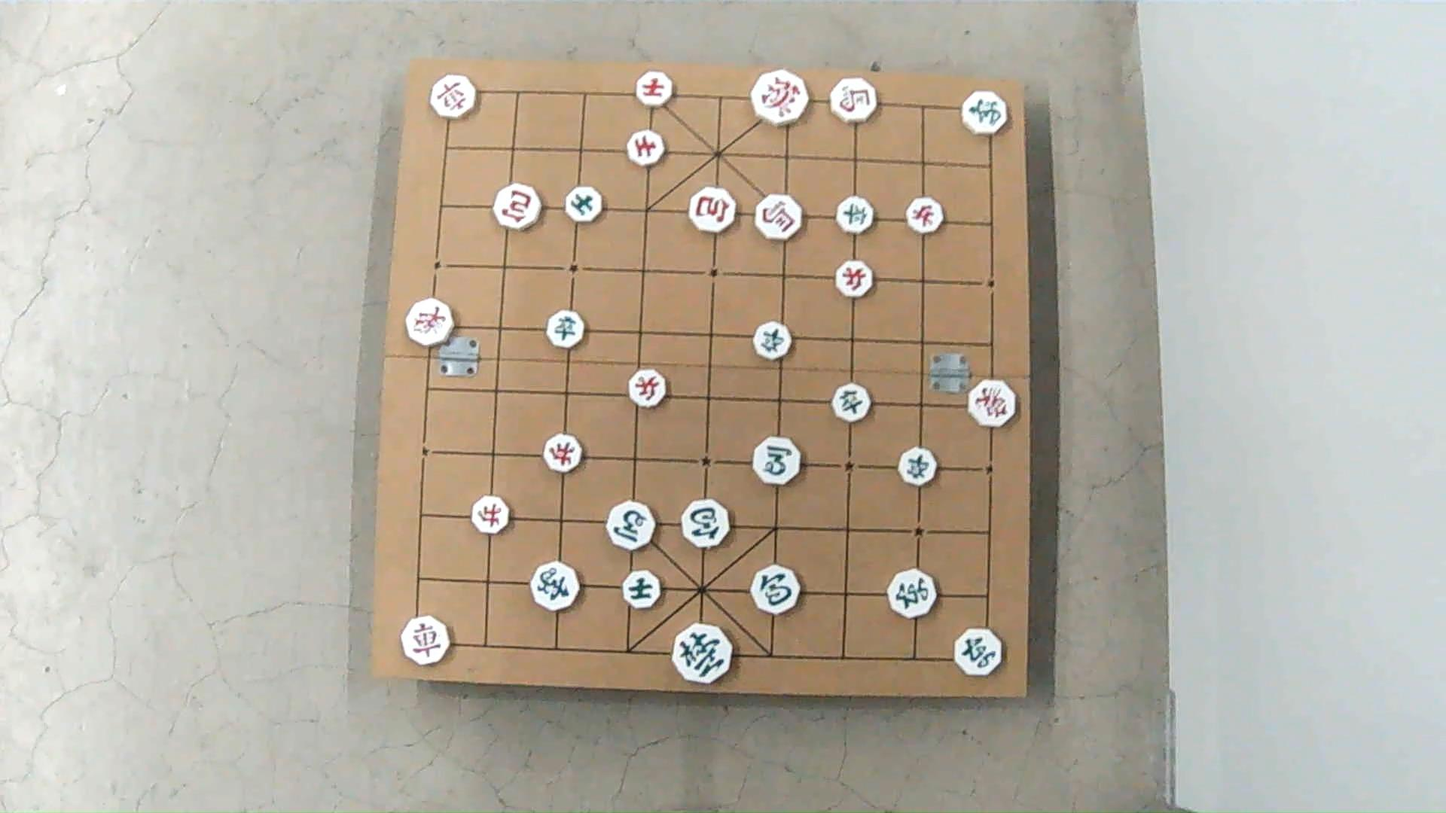cha_green: (891, 571, 939, 618), (953, 631, 1001, 678)
cha_red: (400, 618, 447, 667), (429, 75, 476, 117)
jol_green: (831, 384, 872, 422), (898, 446, 936, 486), (756, 323, 795, 361), (839, 197, 877, 235), (545, 312, 584, 349)
jol_red: (541, 434, 581, 473), (630, 367, 669, 406), (832, 260, 873, 297), (472, 496, 511, 534), (906, 199, 944, 236)
ma_green: (755, 438, 803, 486), (609, 502, 657, 550)
ma_red: (756, 195, 804, 242), (833, 79, 880, 123)
po_green: (752, 565, 801, 614), (685, 499, 733, 548)
po_red: (689, 187, 736, 233), (495, 184, 541, 229)
sa_green: (623, 569, 660, 607), (566, 186, 603, 223)
sa_red: (635, 72, 673, 108), (626, 130, 664, 166)
sang_green: (532, 561, 582, 610), (965, 91, 1010, 135)
sang_red: (972, 380, 1019, 428), (406, 298, 453, 345)
wang_green: (672, 623, 733, 683)
wang_red: (750, 69, 809, 126)
